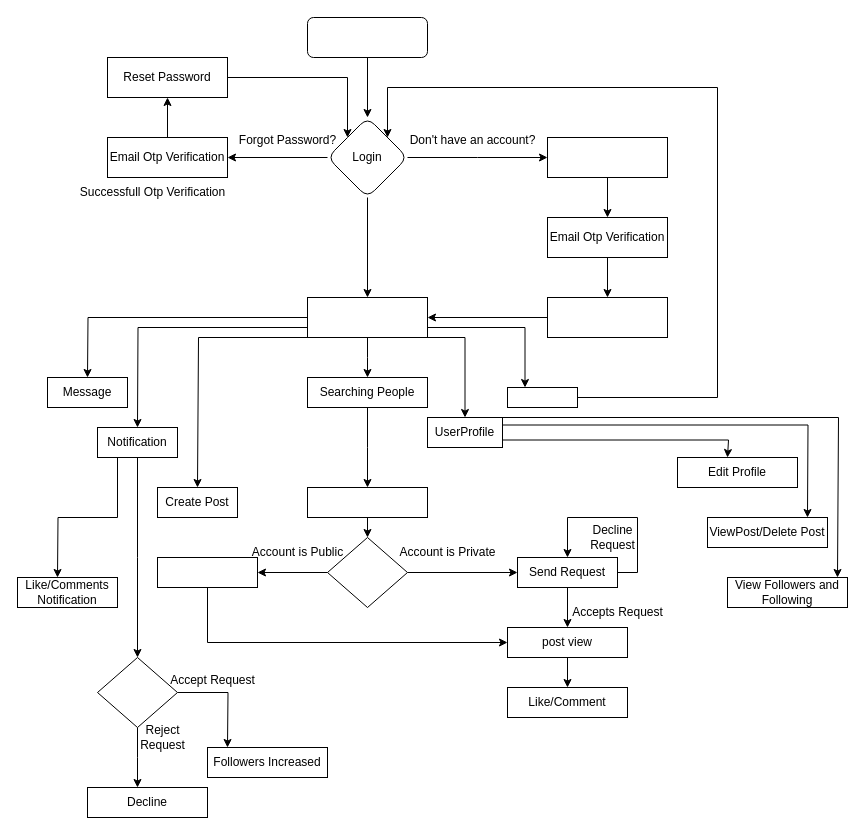
Image size: 865x835. Some labels were removed from this diagram. Each missing label, with the centre of its shape:
Click for details: the point at 367,502
Follow: the point at 207,572
Friend Requests: the point at 137,692
HomePage: the point at 367,317
LogOut: the point at 542,397
Profile Form Filling Page: the point at 607,317
Sign Up: the point at 607,157
Start: the point at 367,37
View Account: the point at 367,572
